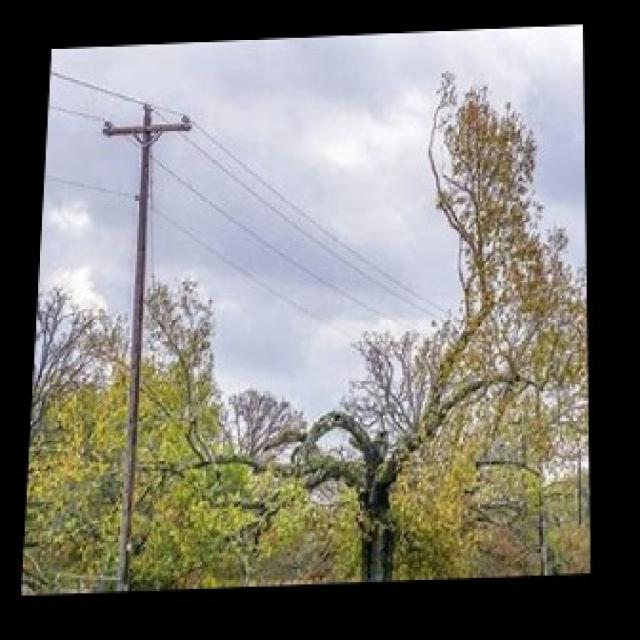utility poles: (96, 80, 188, 588)
